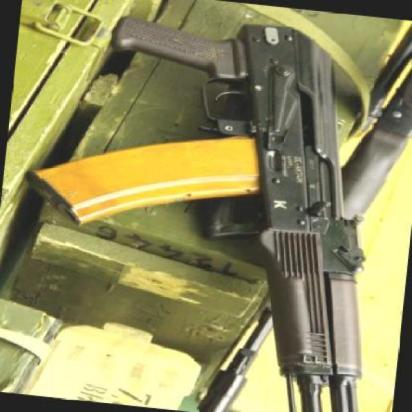Gun: (58, 2, 404, 412)
